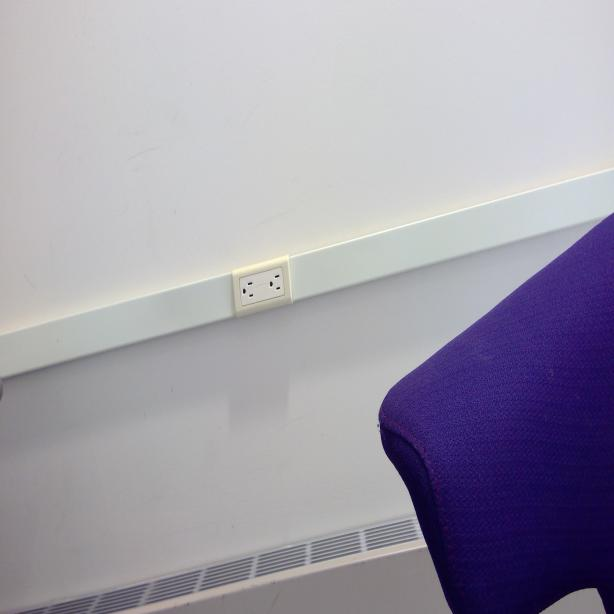typeb: (239, 274, 257, 304), (268, 268, 284, 294)
